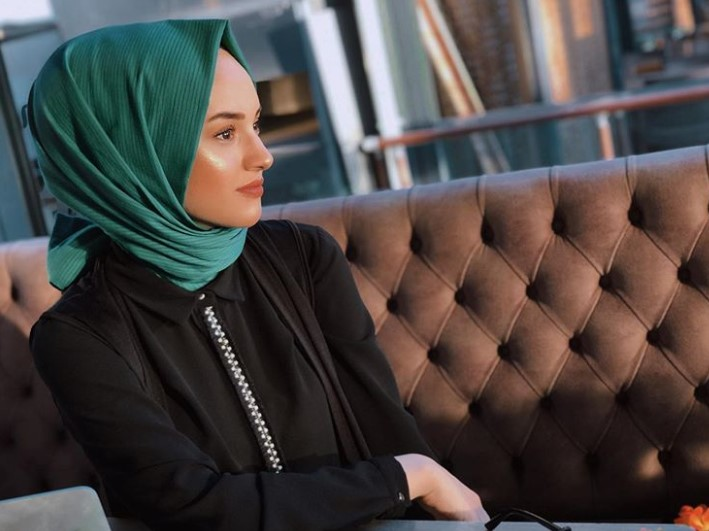face_no_mask: (143, 38, 284, 237)
